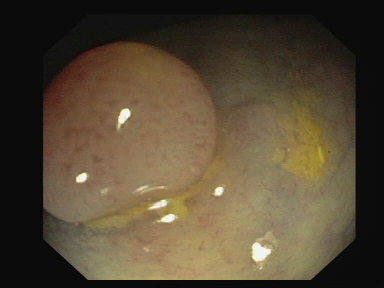polyp: (36, 30, 228, 230)
